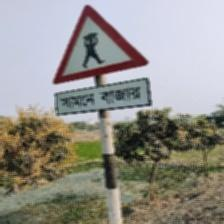Market-in-front: (52, 3, 152, 117)
